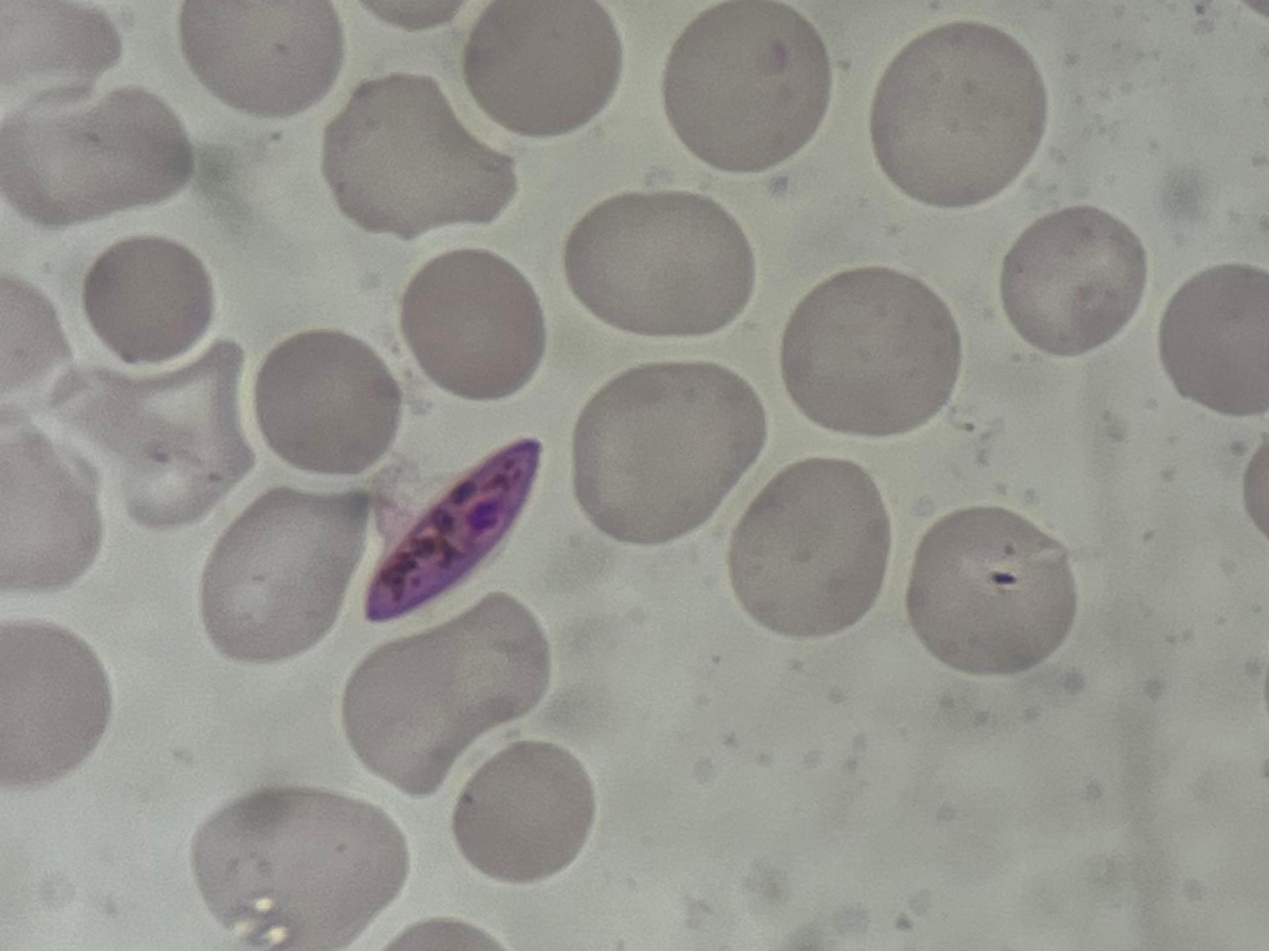Infected: (359, 424, 541, 630)
Uninfected: (348, 600, 548, 797), (571, 353, 768, 550), (53, 342, 254, 534), (192, 781, 413, 951), (868, 18, 1049, 209), (326, 71, 513, 239), (200, 472, 369, 656), (663, 0, 833, 179), (780, 267, 964, 430), (908, 503, 1081, 674), (736, 453, 894, 640), (560, 192, 758, 339), (0, 91, 198, 229), (397, 247, 548, 396), (458, 3, 627, 135), (445, 739, 596, 883), (1005, 206, 1146, 358), (258, 327, 398, 475), (176, 3, 348, 120), (75, 236, 219, 361), (1161, 265, 1269, 417)
